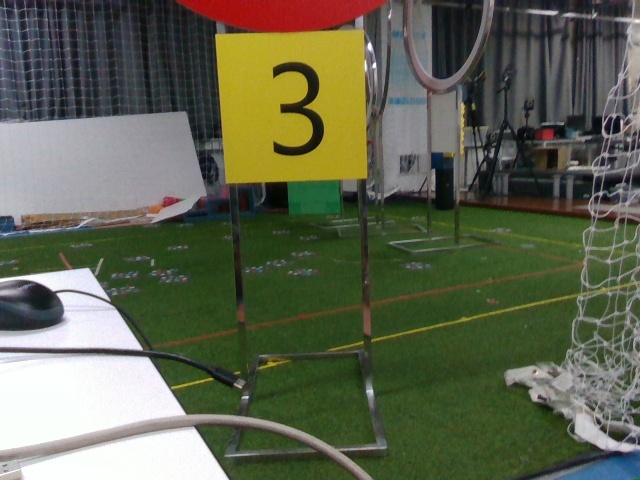target: (218, 30, 358, 176)
